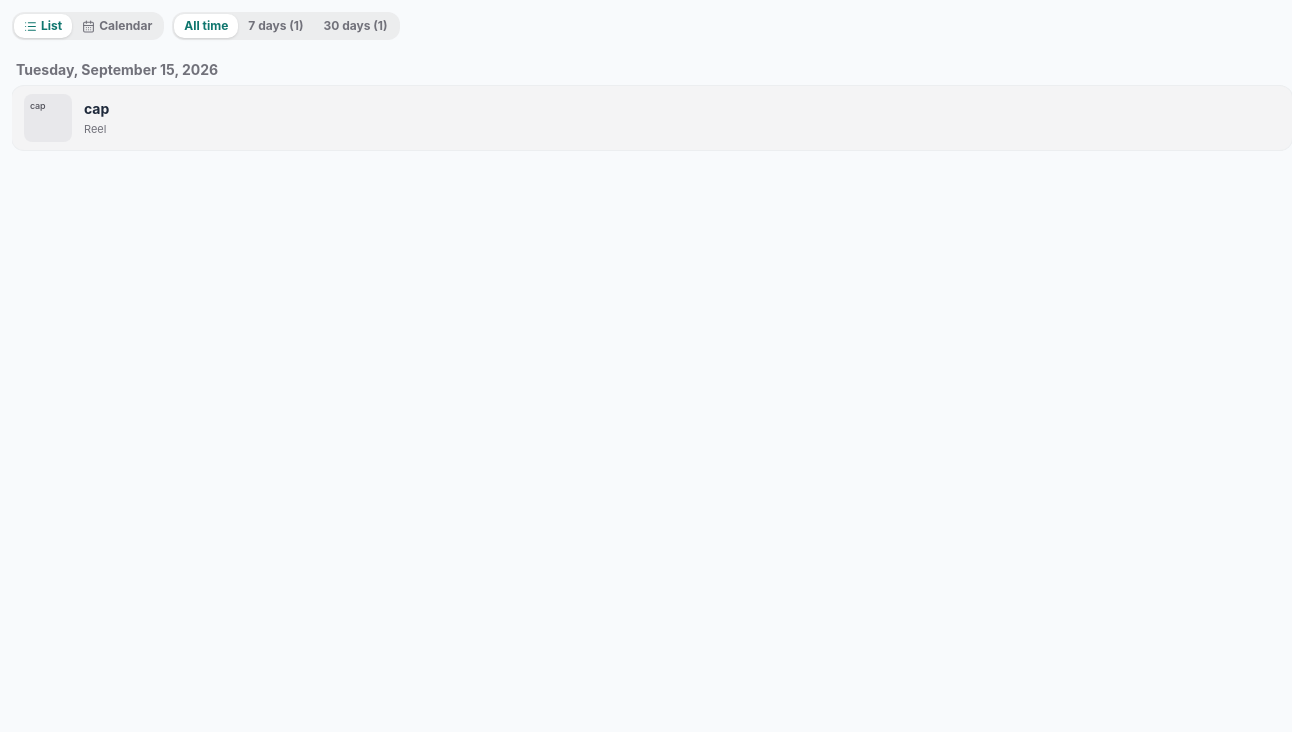
Test: Published views (US-PUB-11) › hides the relative-days range control in calendar view (it conflicts with month navigation)
Expected: the button "7 days (1)" is shown, left=238, top=14, right=314, bottom=38
Click the button "Calendar". click: (117, 26)
box: left=72, top=14, right=162, bottom=38
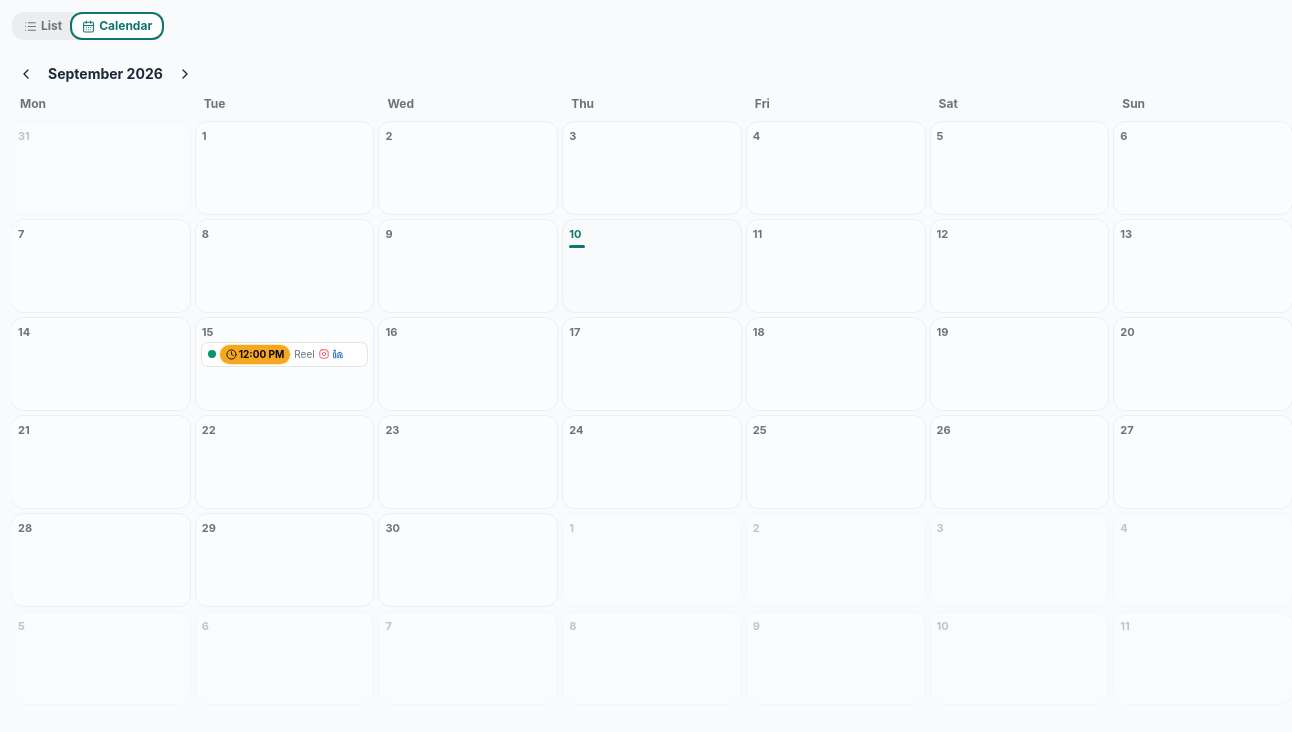
Now the button "7 days" is gone
